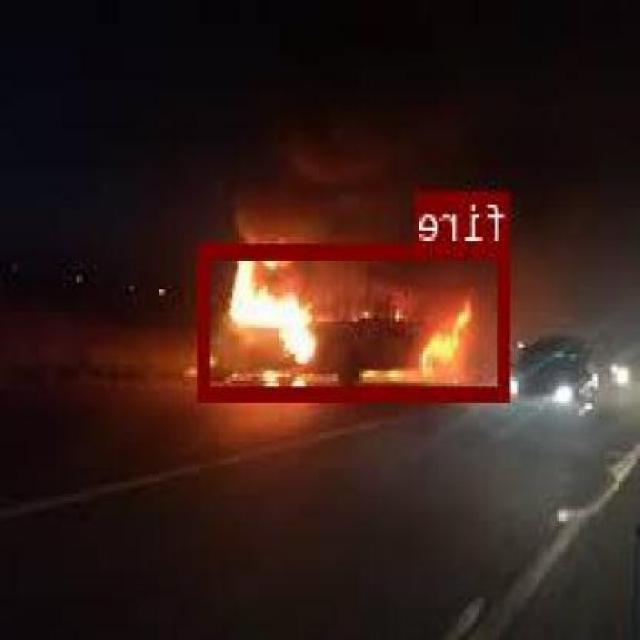Fire: (202, 243, 510, 400)
